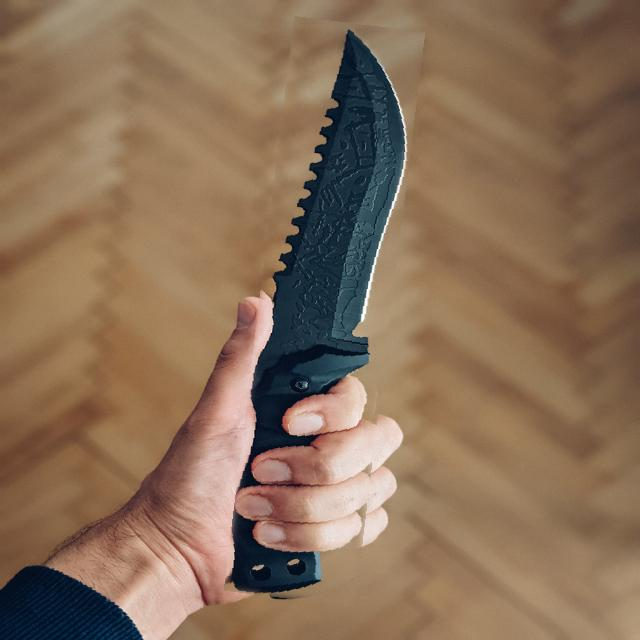knife: (242, 19, 408, 604)
